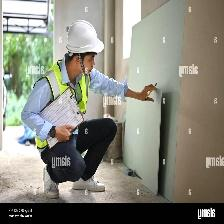Person: (17, 5, 164, 206)
helmet: (64, 18, 106, 59)
vest: (31, 66, 94, 150)
